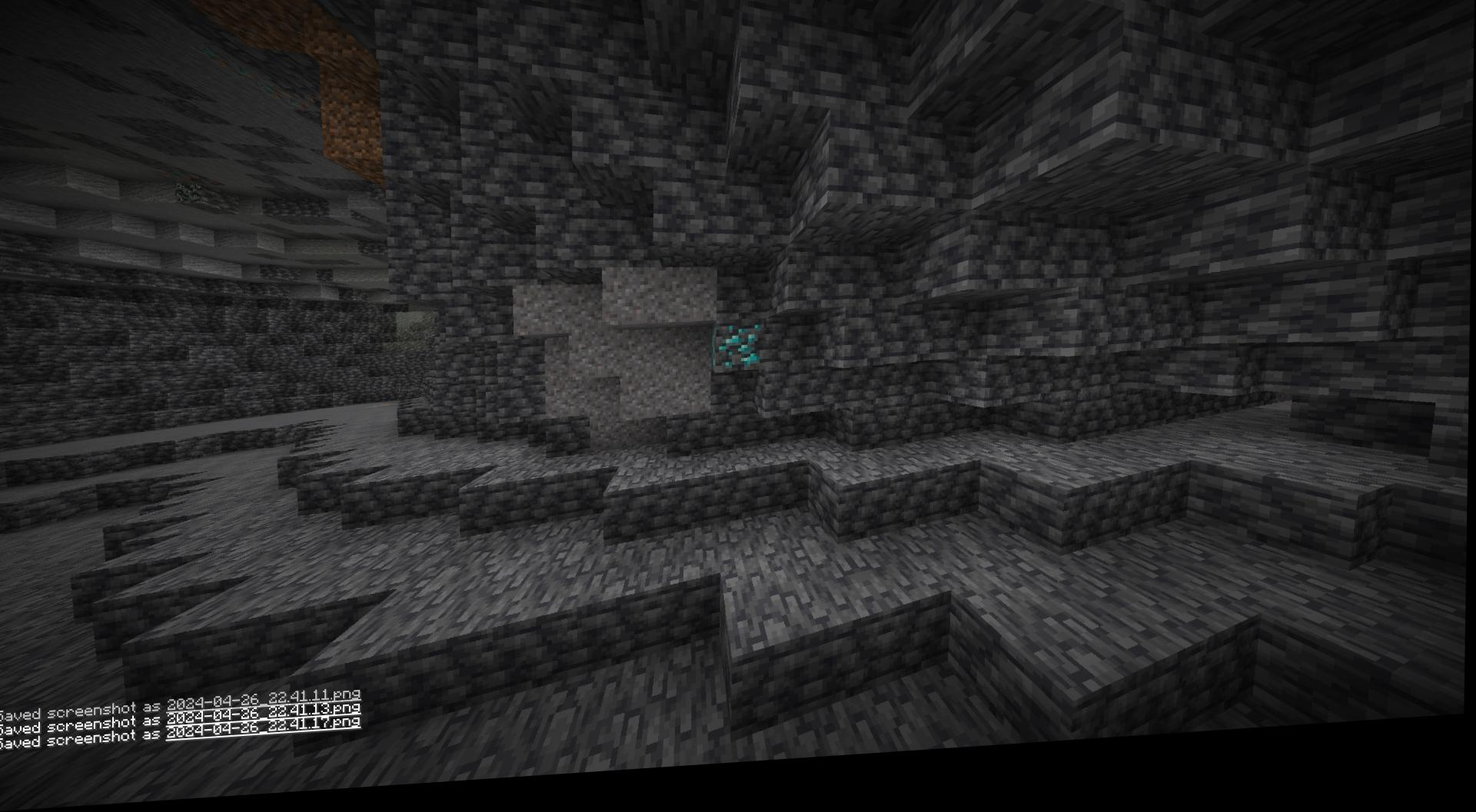diamond ore: (718, 336, 766, 384)
